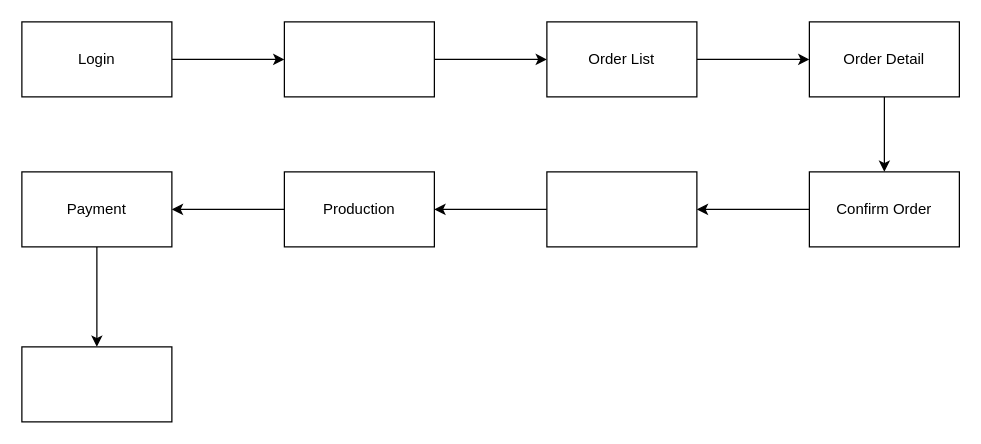
Some shapes in this 981 by 444 pixel diagram are drawn without their labels. Here are the shapes that lost their labels. From the top down, the box of each, then its label:
(283, 21, 434, 97): Dashboard
(546, 171, 697, 247): Check Inventory
(21, 346, 172, 422): Completed
